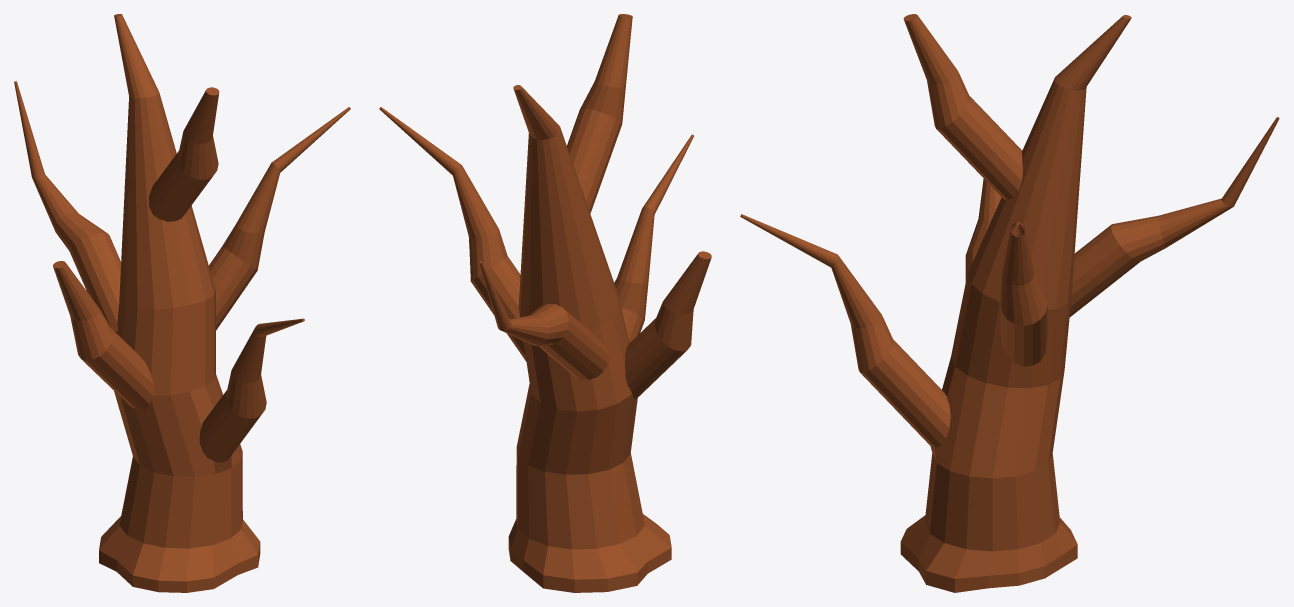
File: _rvoreSeca.fbx
The picture shows the model from 3 angles, left to right: view 1: azimuth 30°, elevation 25°; view 2: azimuth 150°, elevation 25°; view 3: azimuth 270°, elevation 25°; orthographic projection. The views are drawn at different scales.
Parts seen in each view (by area): view 1: Cylinder; view 2: Cylinder; view 3: Cylinder.
Boxes of the visible parts, <box> form: Cylinder: <box>14,14,350,592</box>; Cylinder: <box>379,14,711,592</box>; Cylinder: <box>740,14,1279,592</box>.
Bounding box in the file's own units: 571 × 884 × 795.
